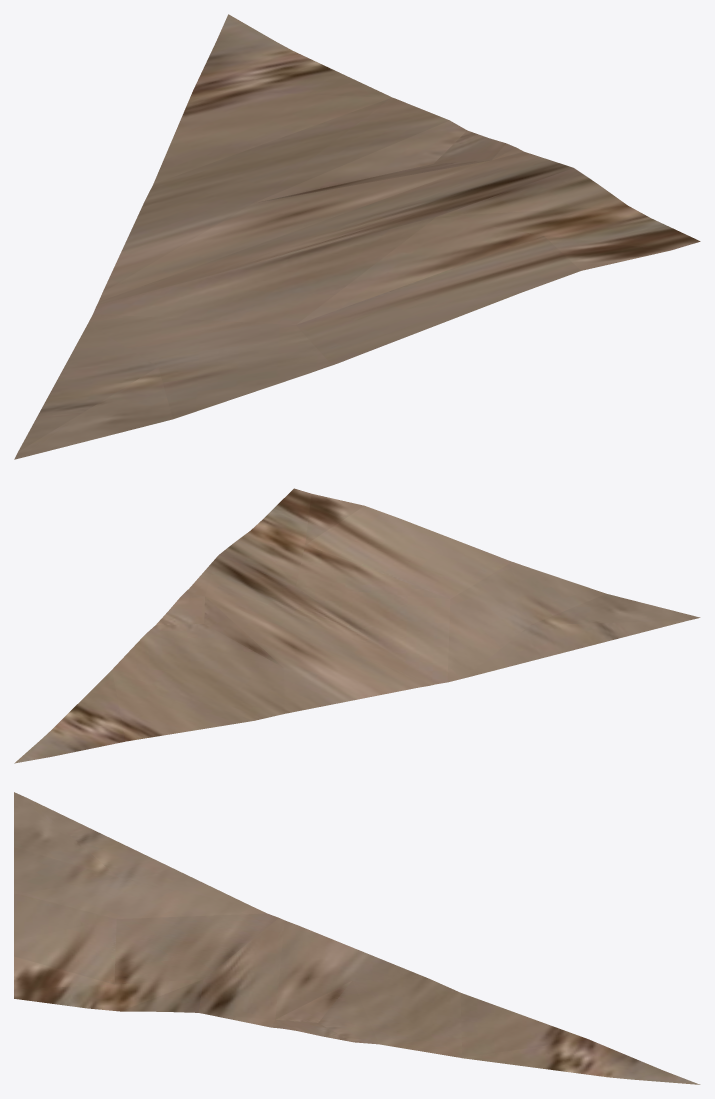
The picture shows the model from 3 angles, top to bottom: view 1: azimuth 30°, elevation 25°; view 2: azimuth 150°, elevation 25°; view 3: azimuth 270°, elevation 25°; orthographic projection. The views are drawn at different scales.
Size of the model in its own units: 2.29 by 0.3775 by 2.73.
1 material, 1 textured.
